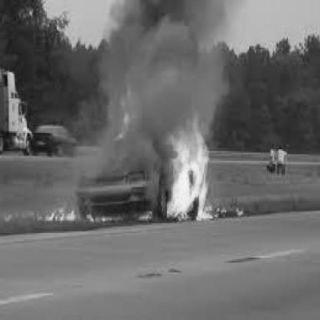Fire: (157, 118, 213, 225), (36, 198, 153, 230)
Smoke: (95, 1, 237, 139)
